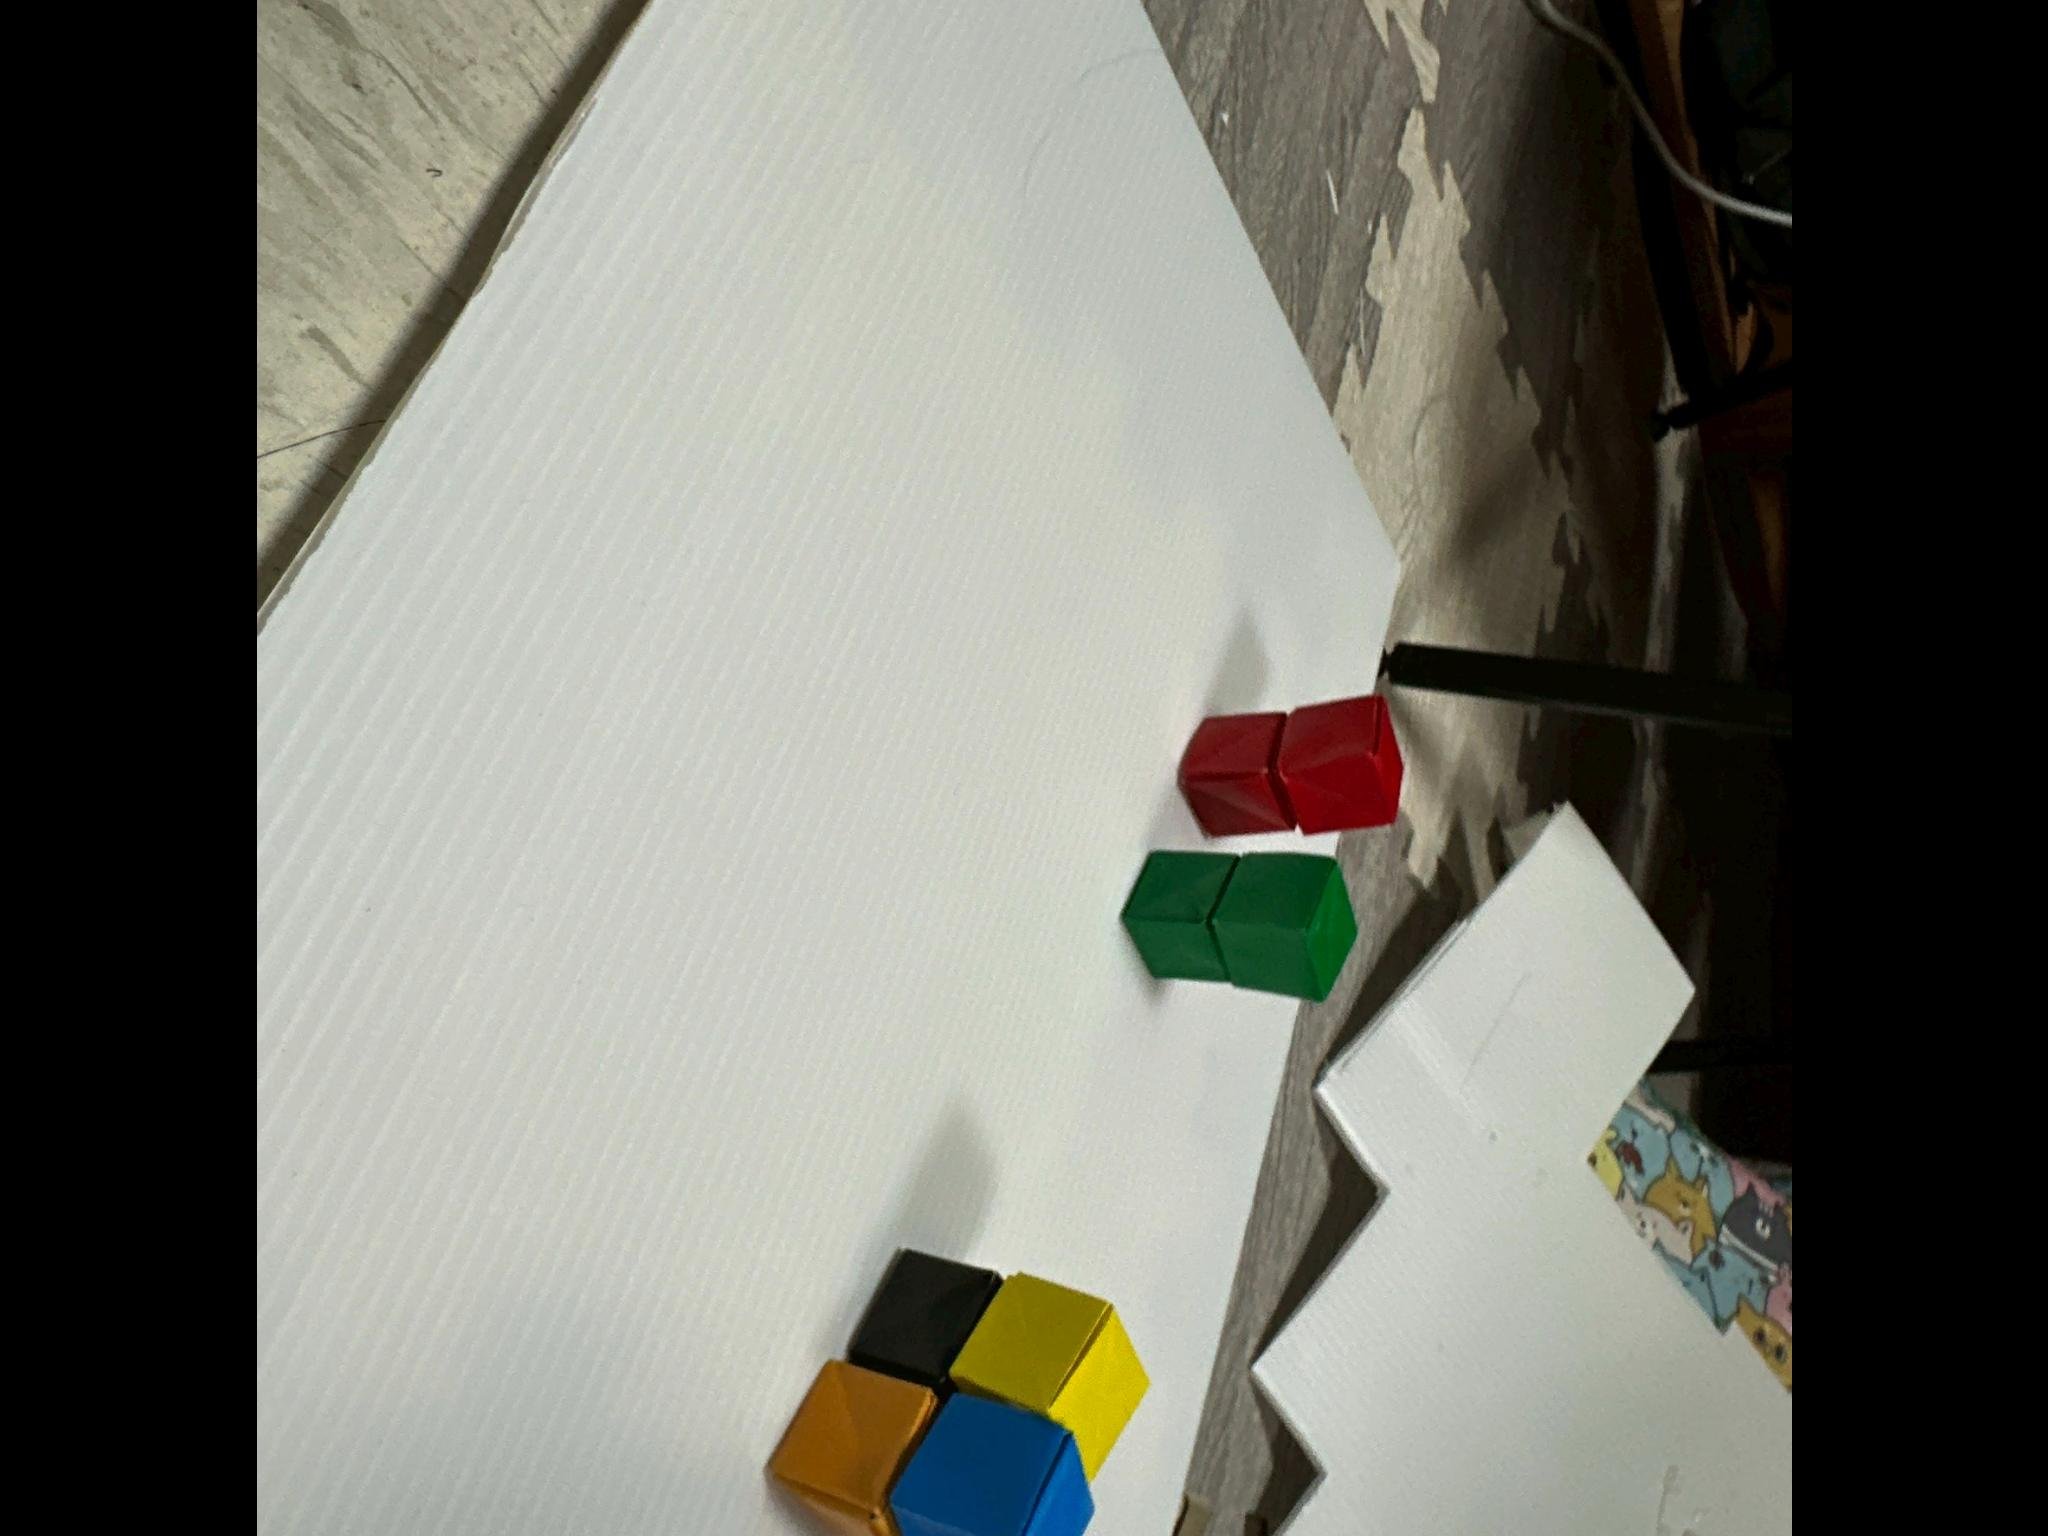base: (948, 1275, 1148, 1480), (887, 1391, 1093, 1536), (768, 1362, 939, 1536), (847, 1250, 1000, 1394), (1211, 854, 1355, 1000), (1276, 695, 1401, 836), (1121, 854, 1242, 981), (1179, 713, 1293, 837)
